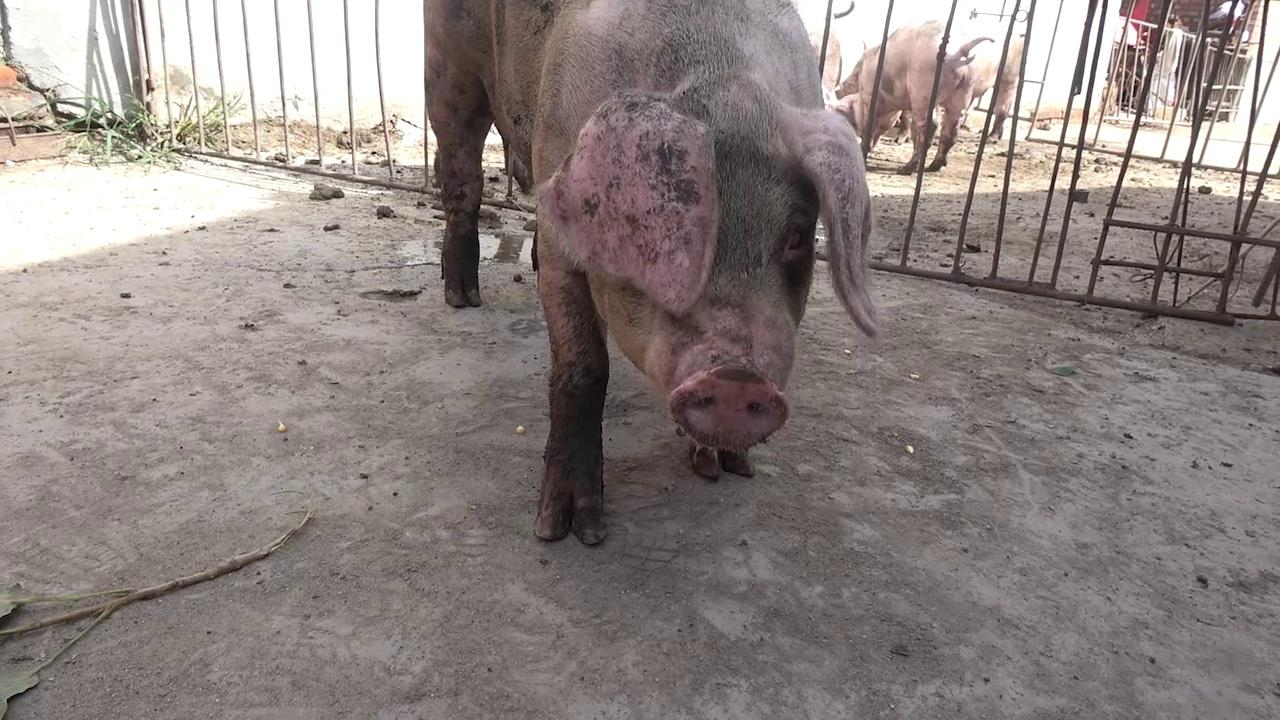Face: (519, 93, 896, 469)
